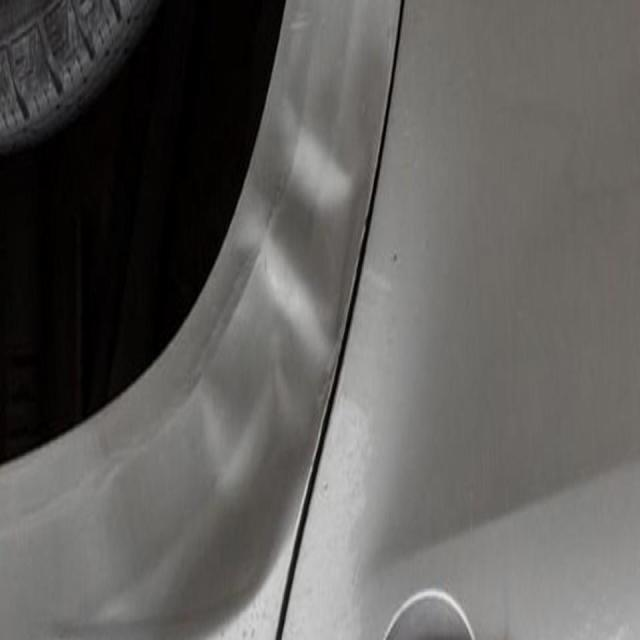dent: (208, 90, 392, 490)
